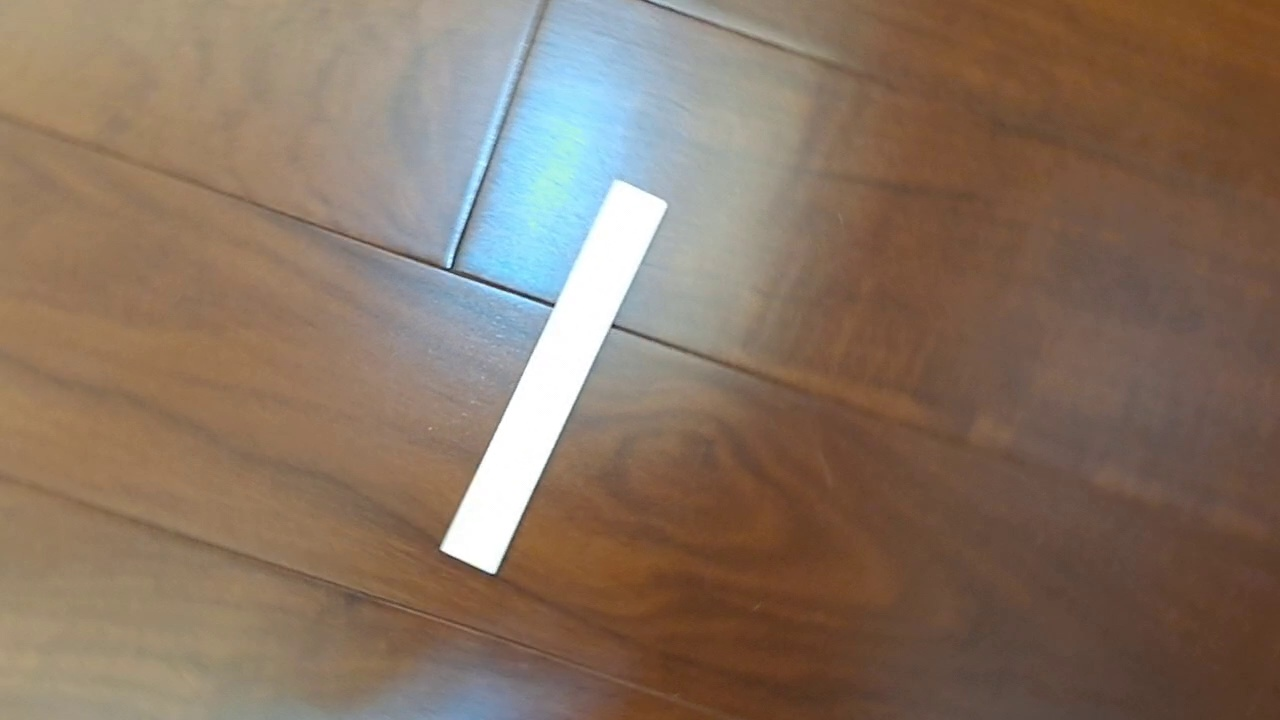ruler: (438, 178, 669, 577)
